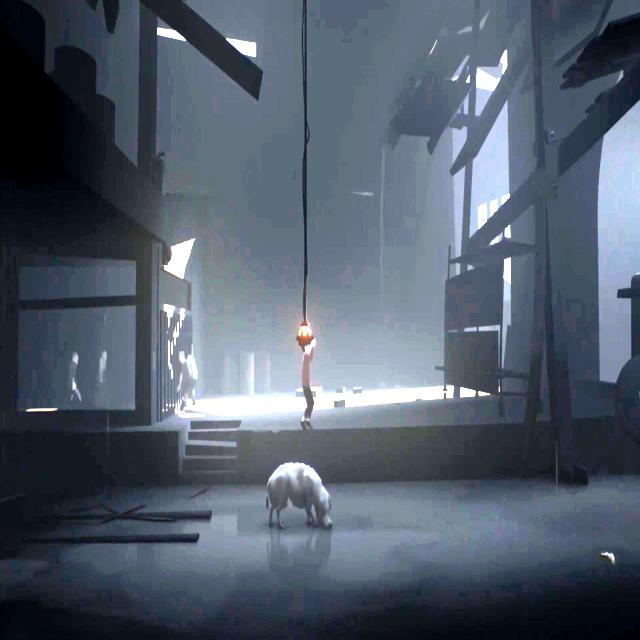zombie: (68, 351, 82, 405), (178, 351, 189, 414), (98, 350, 107, 402), (189, 356, 197, 406)
